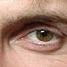eye: (35, 30, 53, 42)
